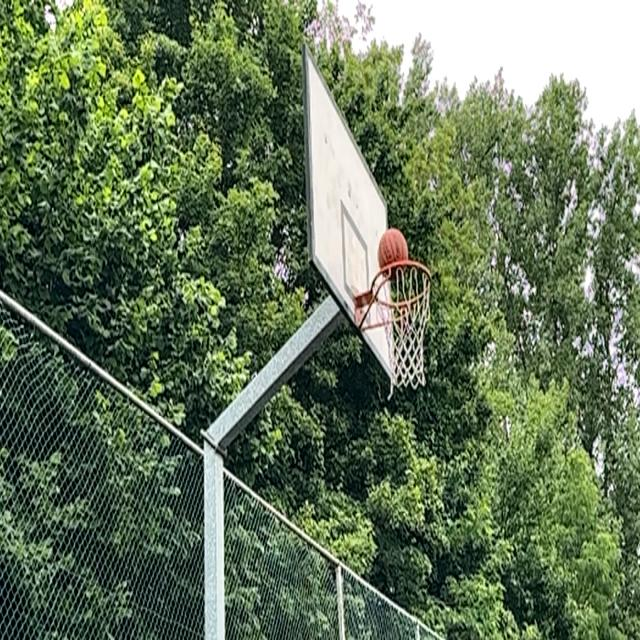rebound_hit: (378, 230, 408, 280)
